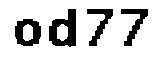7: (119, 5, 153, 51), (83, 6, 113, 48)
d: (47, 7, 80, 52)
o: (13, 17, 43, 50)
